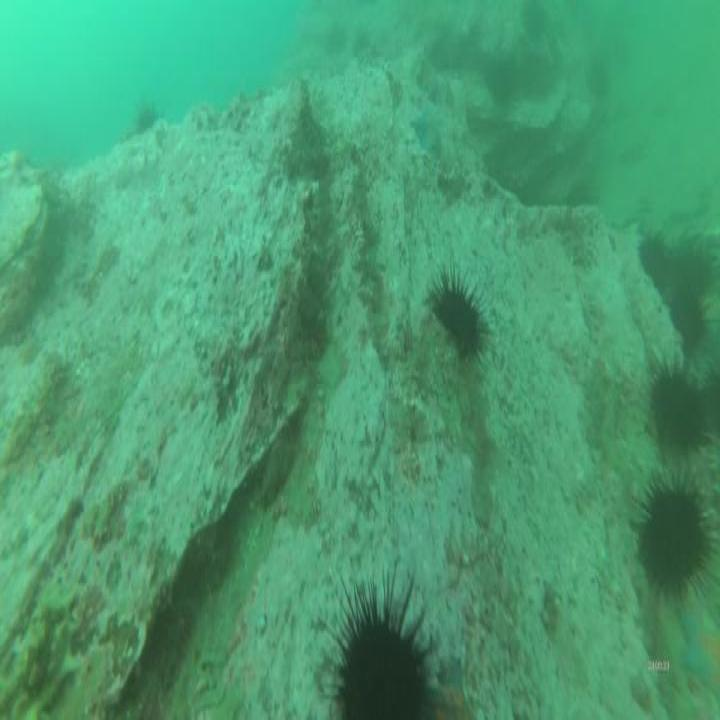echinus: (337, 611, 424, 720), (640, 490, 710, 588), (657, 371, 707, 454), (435, 282, 480, 356), (639, 233, 674, 300), (671, 246, 716, 294), (673, 295, 705, 350)
starfish: (411, 100, 452, 151)
